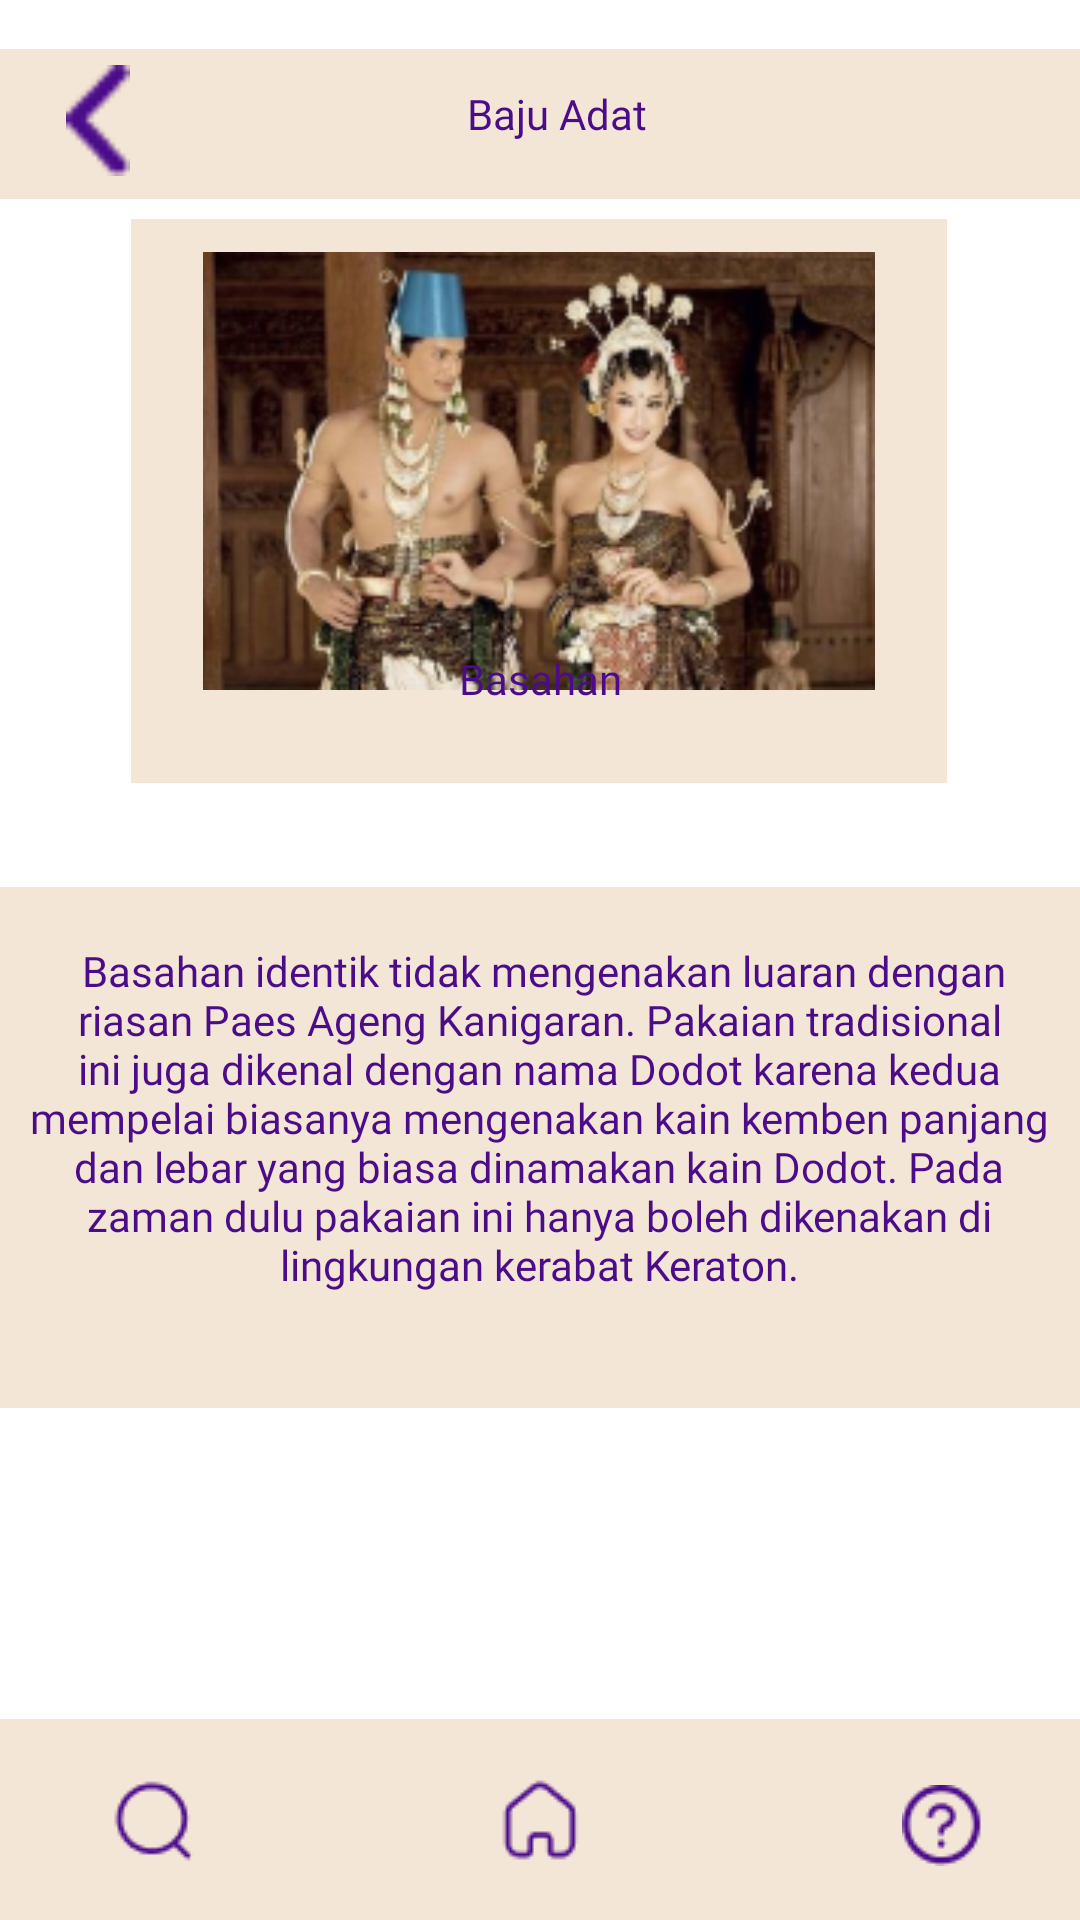

Icons on this 1080px×1920px Android screen, each with its box as (x1=x1, y1=y1, x2=x2, y2=y2):
homeee: (x1=503, y1=1780, x2=577, y2=1860)
tanya: (x1=902, y1=1785, x2=981, y2=1866)
xearch: (x1=114, y1=1781, x2=191, y2=1861)
